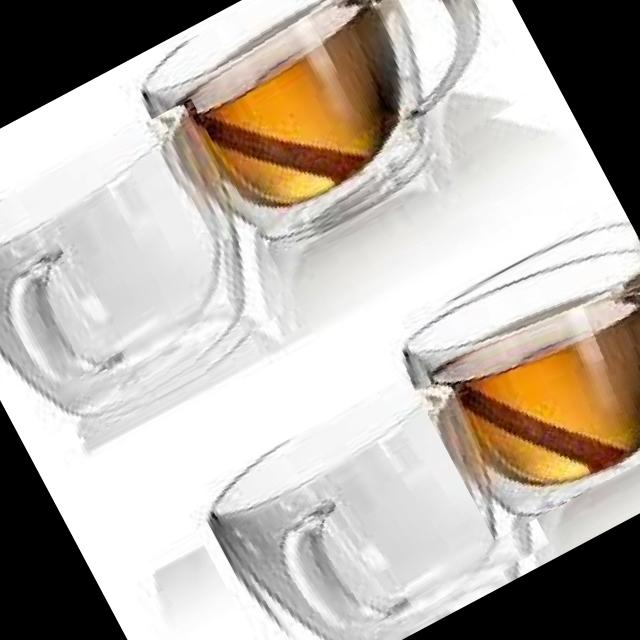Glass: (120, 0, 544, 281), (0, 98, 309, 464), (191, 353, 557, 640), (382, 201, 640, 539)
